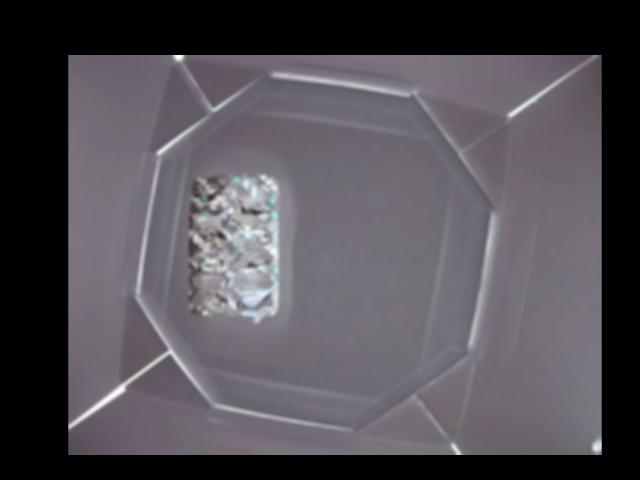Medicine: (184, 170, 279, 320)
